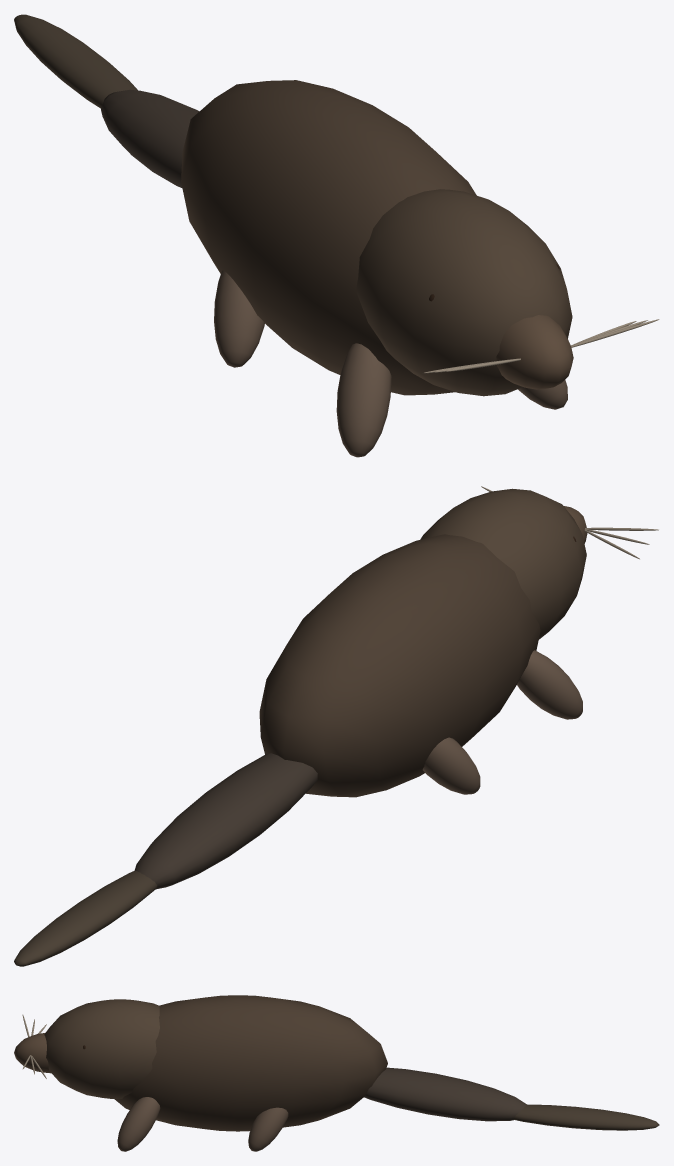
Rendered from otter-shrew.glb.
The picture shows the model from 3 angles, top to bottom: view 1: azimuth 30°, elevation 25°; view 2: azimuth 150°, elevation 25°; view 3: azimuth 270°, elevation 25°; orthographic projection. The views are drawn at different scales.
Visible parts, largest first — view 1: body; view 2: body; view 3: body.
Part boxes in pixels (x1,y1,x2,y2): body: [14, 14, 659, 457]; body: [14, 486, 658, 966]; body: [14, 995, 659, 1151].
Size of the model in its own units: 0.1054 by 0.108 by 0.499.
